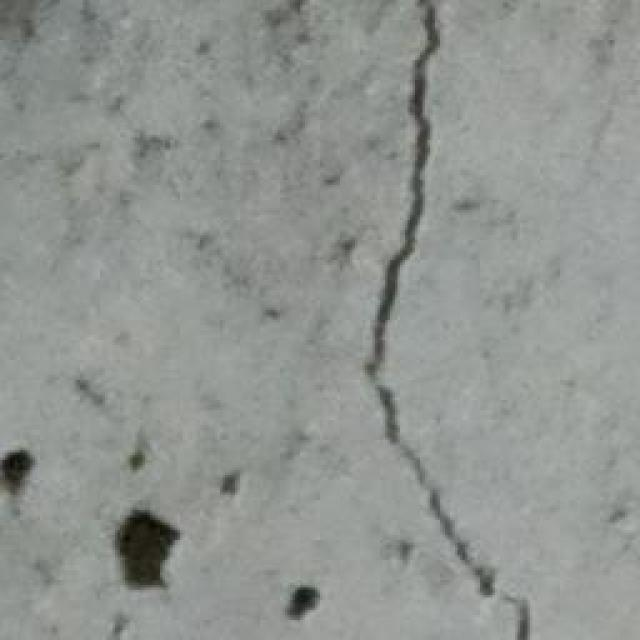Longitudinal: (352, 1, 537, 640)
Rippled: (6, 0, 348, 640)
